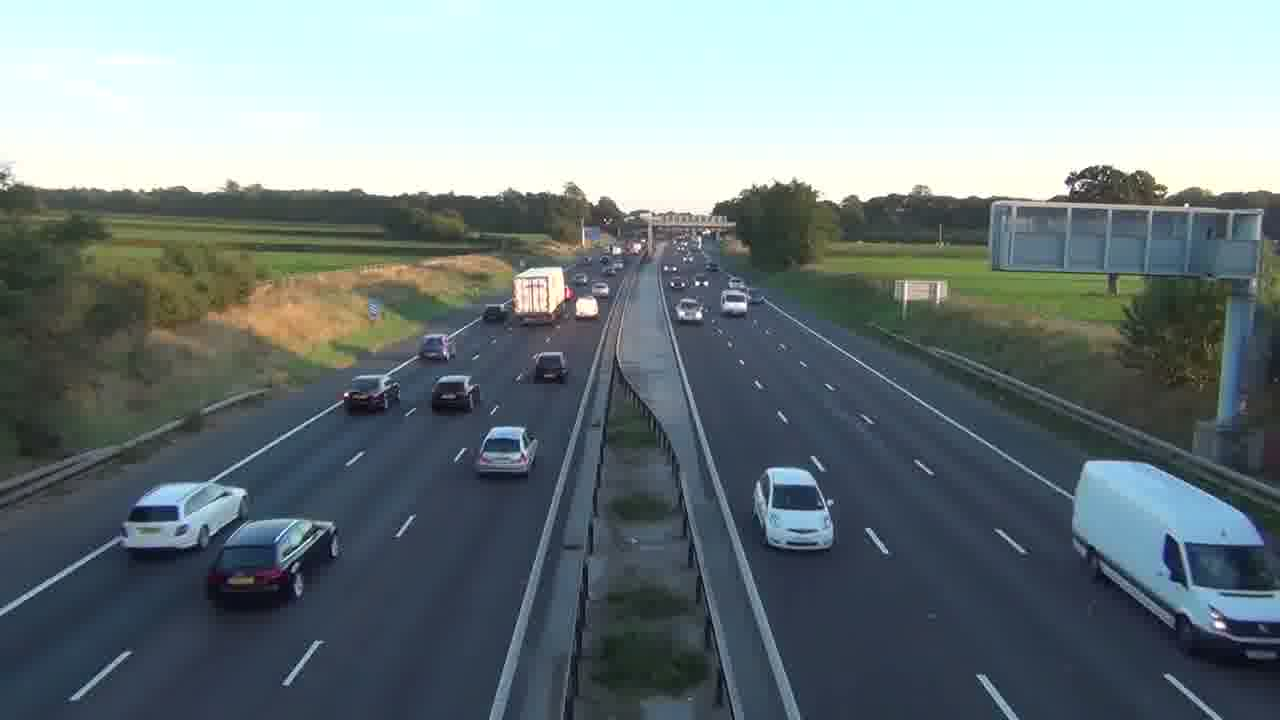car: (206, 516, 337, 604), (752, 466, 837, 551), (474, 425, 541, 478), (431, 373, 481, 412), (532, 351, 568, 384), (418, 333, 454, 360), (575, 296, 599, 320)
truck: (1070, 459, 1279, 661), (121, 480, 248, 554), (512, 265, 568, 326)
